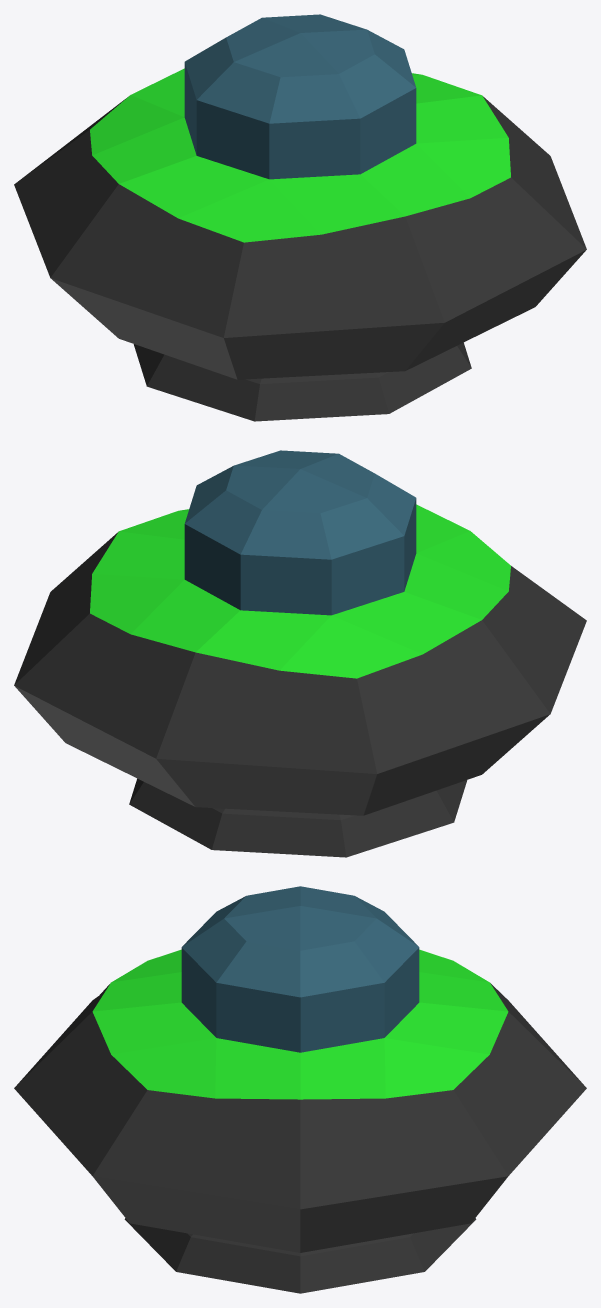
File: ufo.fbx
3 renders of one model, top to bottom at view 1: azimuth 30°, elevation 25°; view 2: azimuth 150°, elevation 25°; view 3: azimuth 270°, elevation 25°, orthographic.
Parts seen in each view (by area): view 1: Cube; view 2: Cube; view 3: Cube.
Boxes of the visible parts, x1=… form: Cube: x1=14, y1=14, x2=586, y2=421; Cube: x1=14, y1=450, x2=586, y2=857; Cube: x1=14, y1=886, x2=586, y2=1293.
Bounding box in the file's own units: 168 × 101 × 168.
